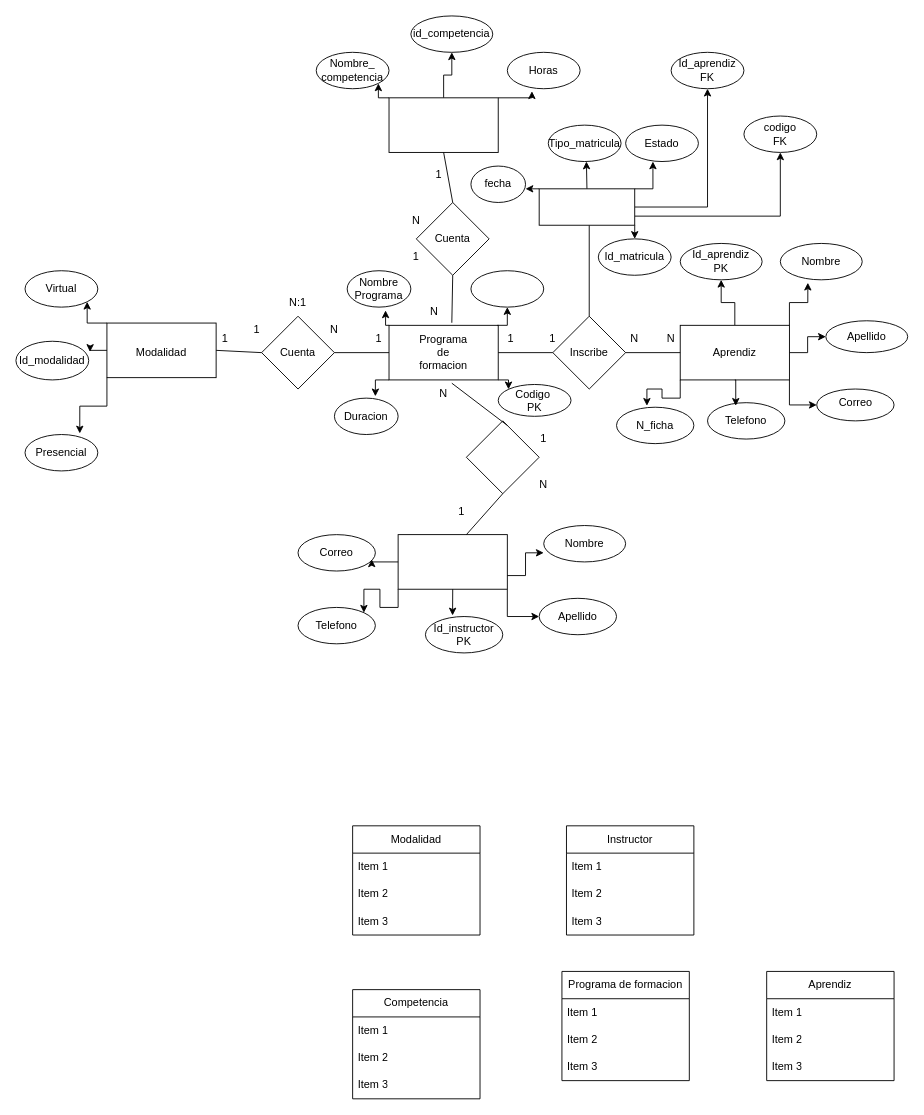
This 924x1115 diagram has some shape labels left out. The box of each missing label's shape, as (x1, y1, x2, y2) in pixels:
Competencias: (388, 97, 498, 152)
Id_modalidad FK: (470, 270, 544, 307)
Instructores: (397, 534, 507, 589)
Matricula: (538, 188, 635, 225)
Orienta: (465, 420, 539, 494)
